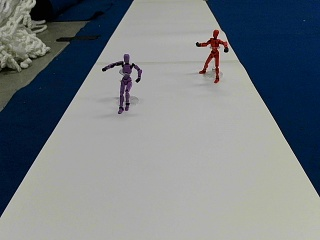pedestrian: (101, 54, 142, 112), (196, 29, 229, 82)
